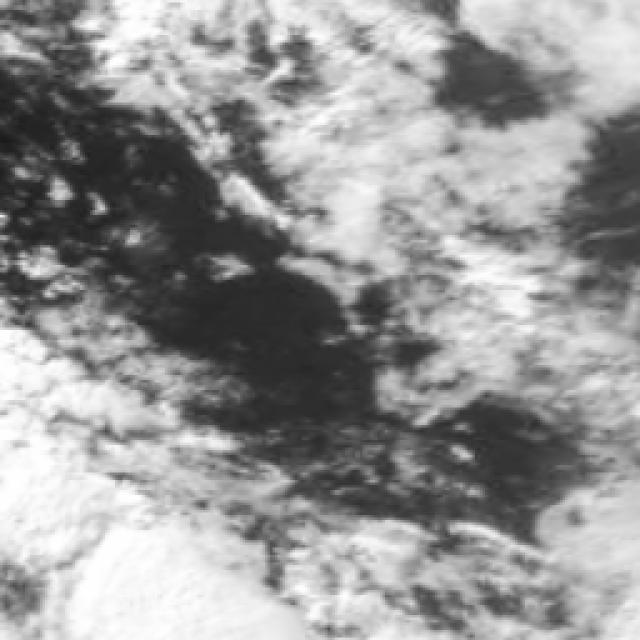CB: (80, 495, 220, 640), (0, 372, 90, 540)
